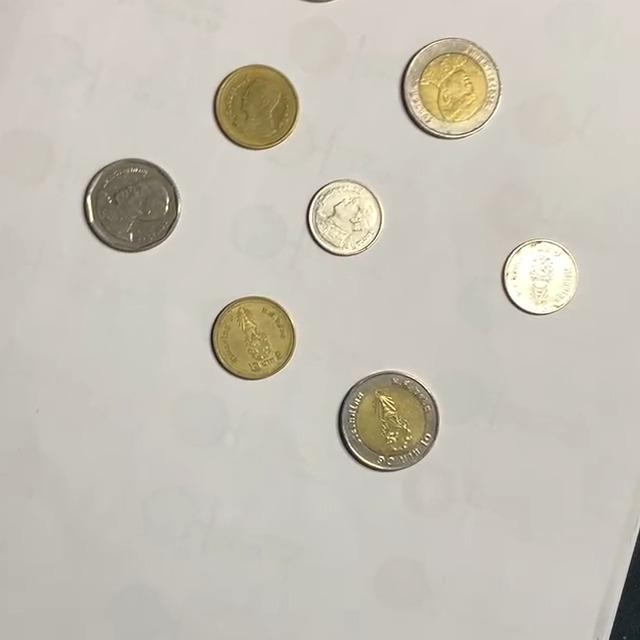1-baht: (307, 179, 387, 257), (502, 237, 582, 315)
10-baht: (339, 372, 441, 472), (403, 38, 504, 138)
2-baht: (214, 64, 301, 150), (211, 296, 297, 380)
5-baht: (84, 158, 183, 253)
